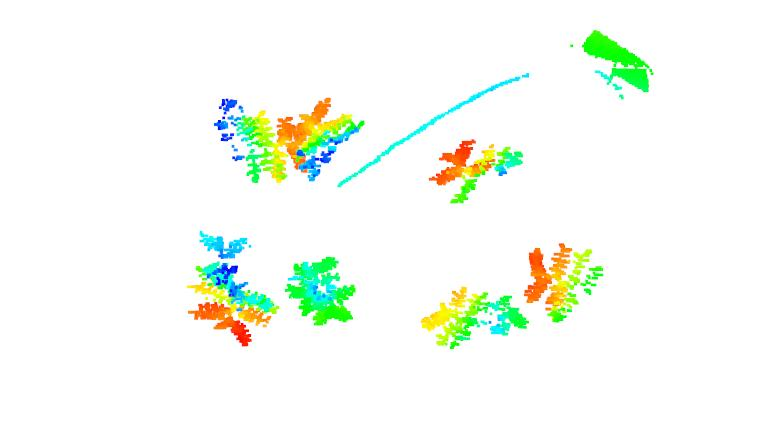chickpea: (190, 226, 278, 349), (283, 95, 363, 181), (424, 139, 527, 205), (213, 97, 292, 181), (417, 288, 524, 348), (526, 241, 606, 321), (283, 257, 358, 328)
